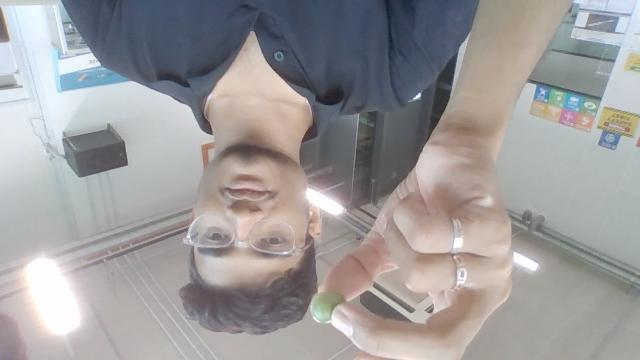Fruit Maturation: (311, 289, 346, 324)
